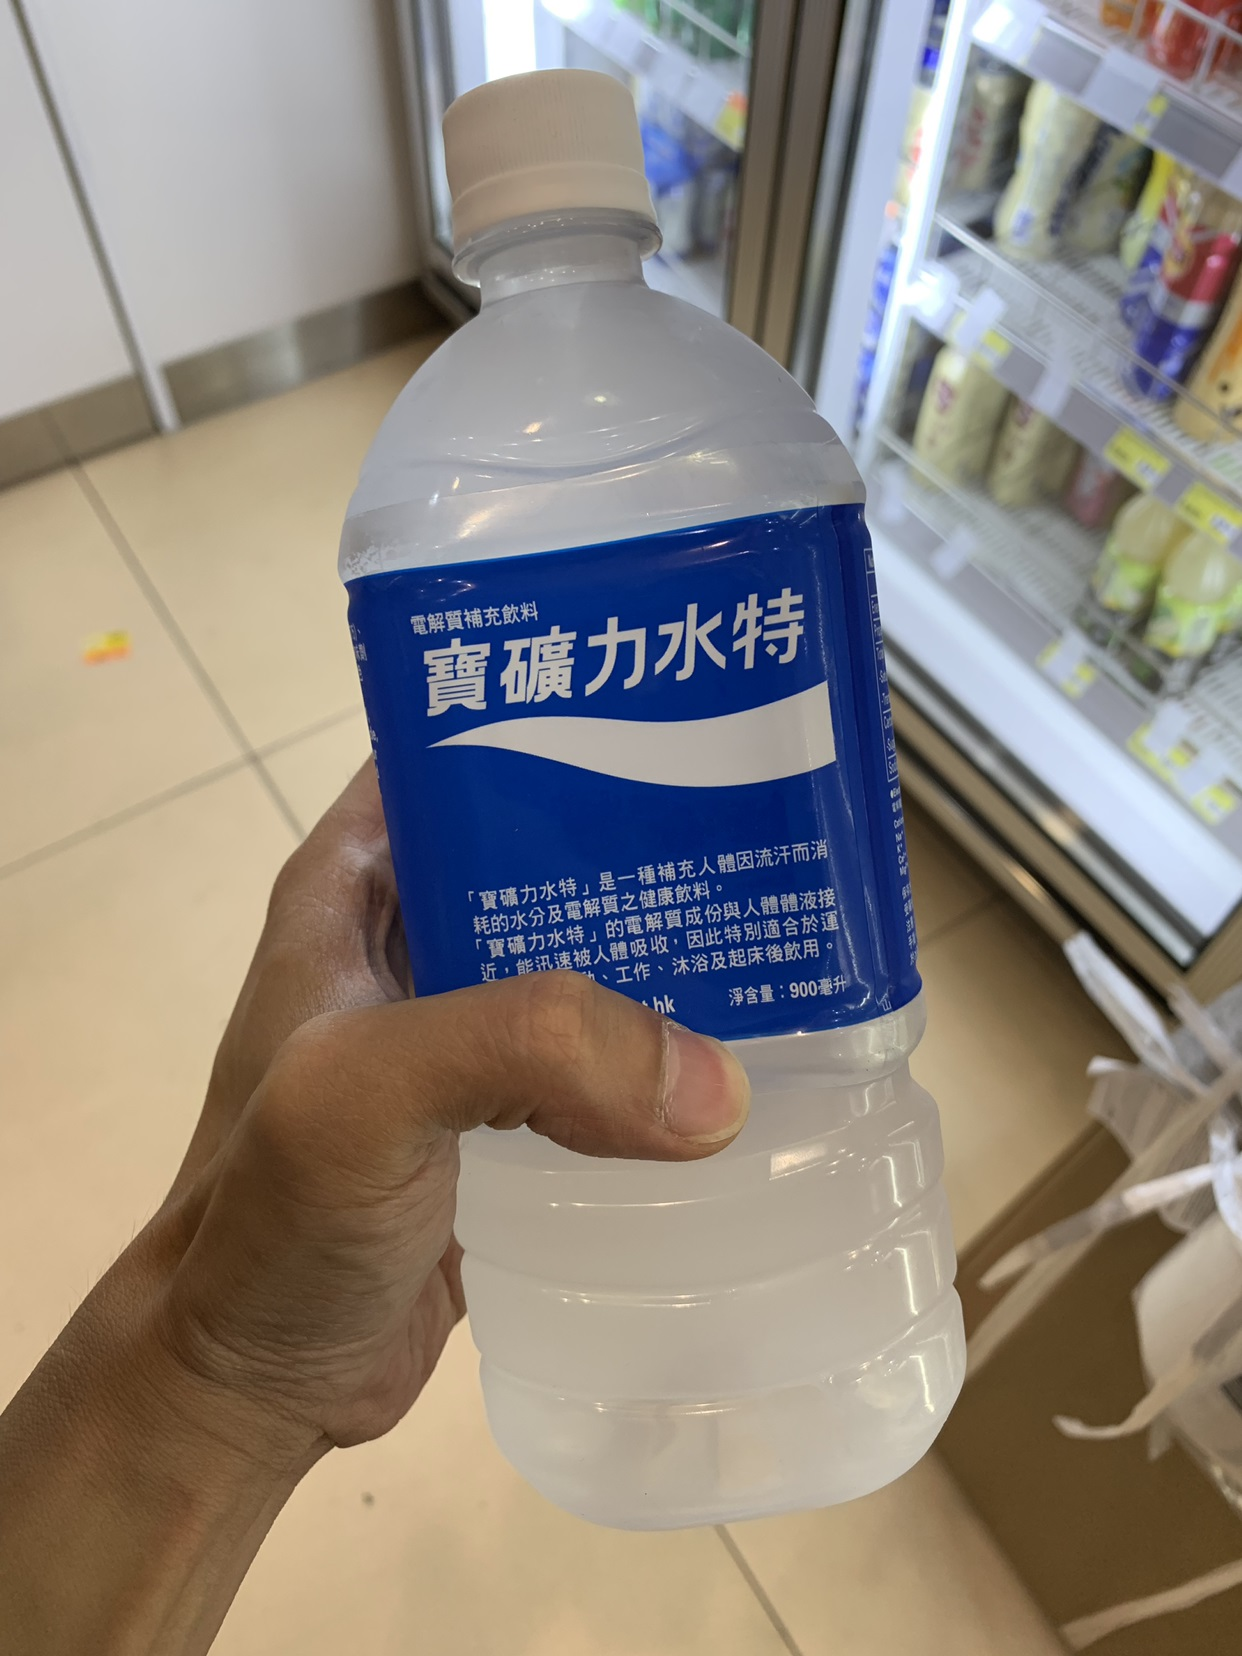POCARI SWEAT: (371, 77, 978, 1509)
